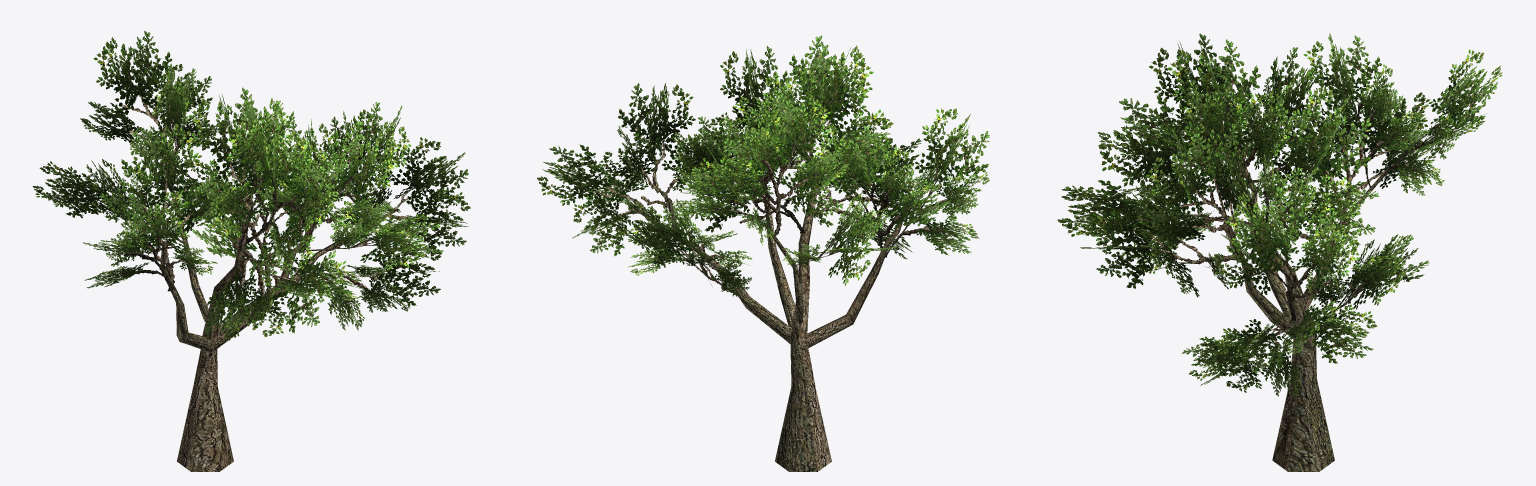
File: oak-2.glb
3 views of the same model, side by side, from view 1: azimuth 30°, elevation 25°; view 2: azimuth 150°, elevation 25°; view 3: azimuth 270°, elevation 25° (orthographic). The views are drawn at different scales.
Parts seen in each view (by area): view 1: oak-2; view 2: oak-2; view 3: oak-2.
Boxes of the visible parts, left/top/right/bottom form: oak-2: left=32, top=31, right=470, bottom=471; oak-2: left=537, top=35, right=989, bottom=471; oak-2: left=1057, top=33, right=1502, bottom=471.
Size of the model in its own units: 17.41 by 15.55 by 15.09.
Materials: 2 (2 with a texture image).
